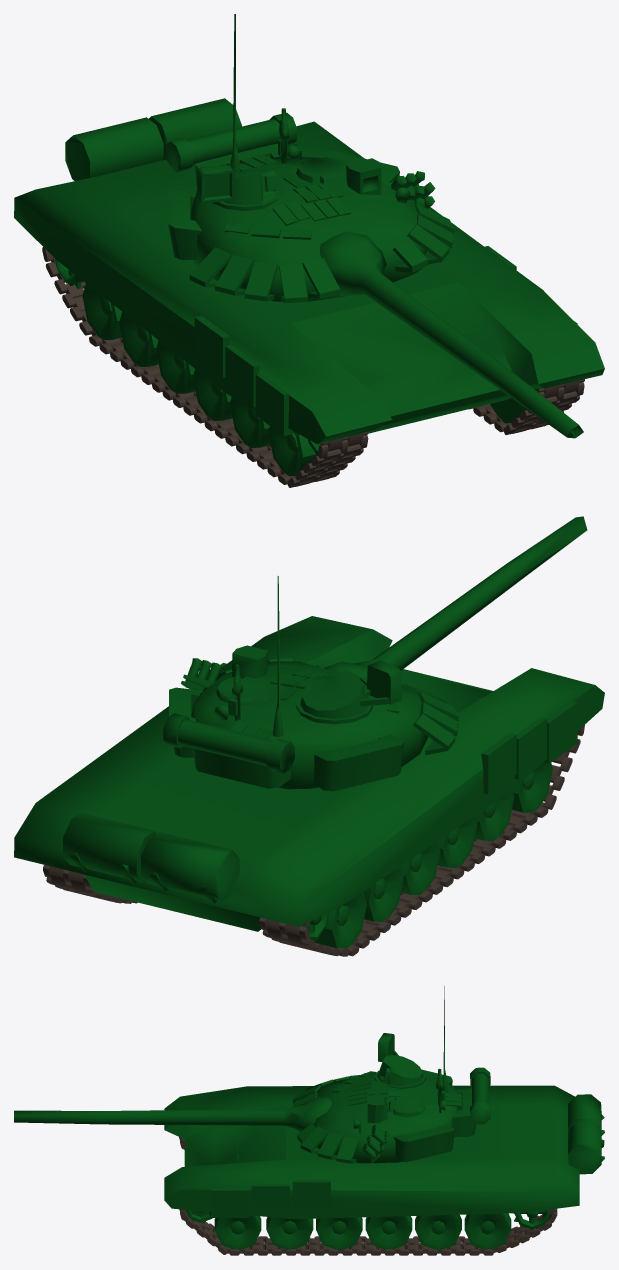
Rendered from lowpolytank.fbx.
3 renders of one model, top to bottom at view 1: azimuth 30°, elevation 25°; view 2: azimuth 150°, elevation 25°; view 3: azimuth 270°, elevation 25°, orthographic. The views are drawn at different scales.
Parts seen in each view (by area): view 1: tank, tower, wheel_2_2, wheel_7_2, wheel_6_2, wheel_5_2, wheel_3_2, wheel_4_2; view 2: tank, tower, wheel_7_2, wheel_6_2, wheel_5_2, wheel_2_2, wheel_4_2, wheel_3_2, Connect_4_30_2; view 3: tank, tower, wheel_7_1, wheel_6_1, wheel_5_1, wheel_2_1, wheel_4_1, wheel_3_1, wheel_8_1.
Boxes of the visible parts, x1,y1,x2,y2 form: tank: (14,98,604,444); tower: (165,14,583,438); wheel_2_2: (268,426,317,475); wheel_7_2: (82,283,121,339); wheel_6_2: (119,312,158,366); wheel_5_2: (156,340,195,393); wheel_3_2: (230,397,270,447); wheel_4_2: (193,369,232,420); tank: (14,616,604,931); tower: (163,516,587,791); wheel_7_2: (315,892,366,948); wheel_6_2: (363,866,403,921); wheel_5_2: (400,841,440,894); wheel_2_2: (512,762,552,812); wheel_4_2: (438,816,477,867); wheel_3_2: (474,790,514,840); Connect_4_30_2: (259,917,309,945); tank: (164,1085,604,1219); tower: (14,986,490,1163); wheel_7_1: (464,1213,511,1249); wheel_6_1: (415,1214,461,1249); wheel_5_1: (365,1216,412,1249); wheel_2_1: (214,1215,261,1249); wheel_4_1: (316,1217,362,1249); wheel_3_1: (266,1217,313,1249); wheel_8_1: (513,1210,550,1229).
Size of the model in its own units: 370 by 395 by 961.
